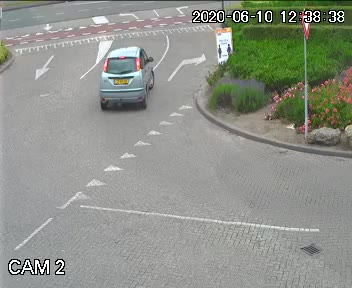car: (91, 35, 166, 119)
